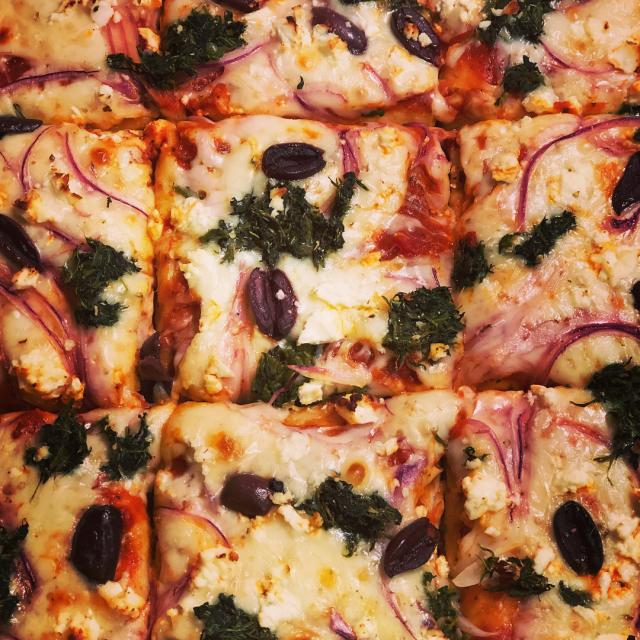black_olives: (71, 504, 124, 586), (552, 499, 606, 578), (377, 518, 445, 580), (246, 264, 300, 342), (388, 7, 444, 62), (308, 5, 368, 56), (218, 473, 282, 519), (261, 141, 327, 181), (0, 214, 44, 273), (0, 114, 43, 137), (208, 0, 259, 12)
pizza: (0, 0, 640, 640)
